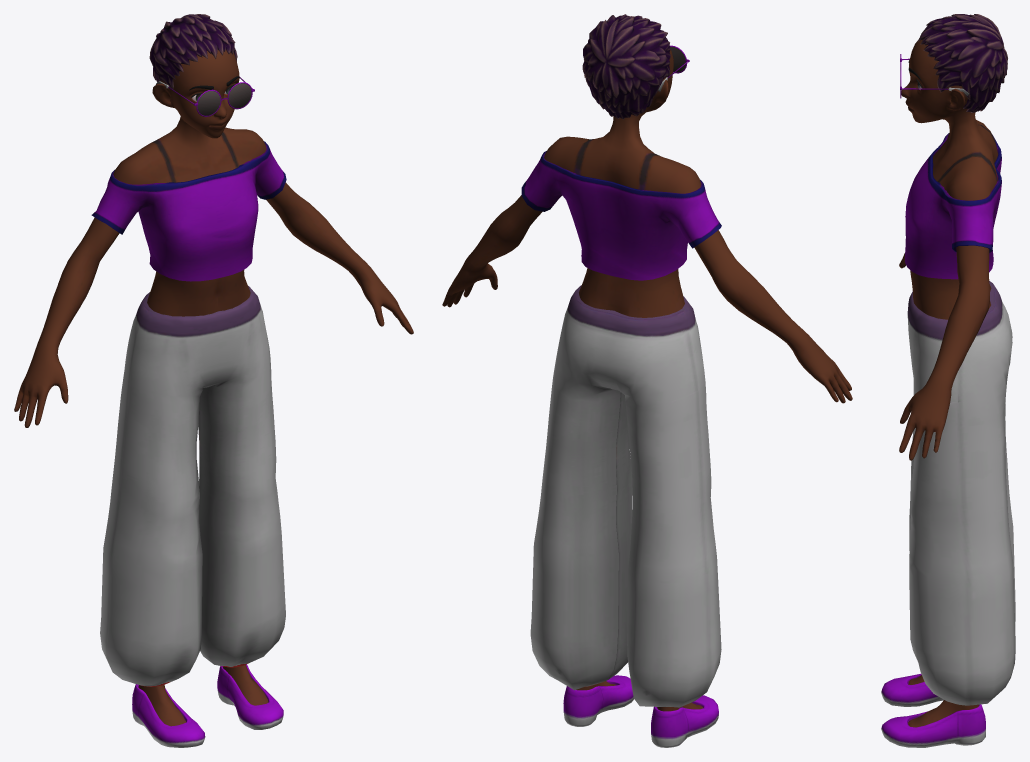
Rendered from Barbara_Mesh.obj.
3 views of the same model, side by side, from view 1: azimuth 30°, elevation 25°; view 2: azimuth 150°, elevation 25°; view 3: azimuth 270°, elevation 25° (orthographic). The views are drawn at different scales.
Visible parts, largest first — view 1: Barbara_Mesh_0; view 2: Barbara_Mesh_0; view 3: Barbara_Mesh_0.
Boxes of the visible parts, bbox=[...] form: Barbara_Mesh_0: bbox=[14, 14, 413, 747]; Barbara_Mesh_0: bbox=[442, 14, 852, 747]; Barbara_Mesh_0: bbox=[881, 14, 1015, 747].
Bounding box in the file's own units: 1.06 × 1.81 × 0.3129.
1 material, 1 textured.
